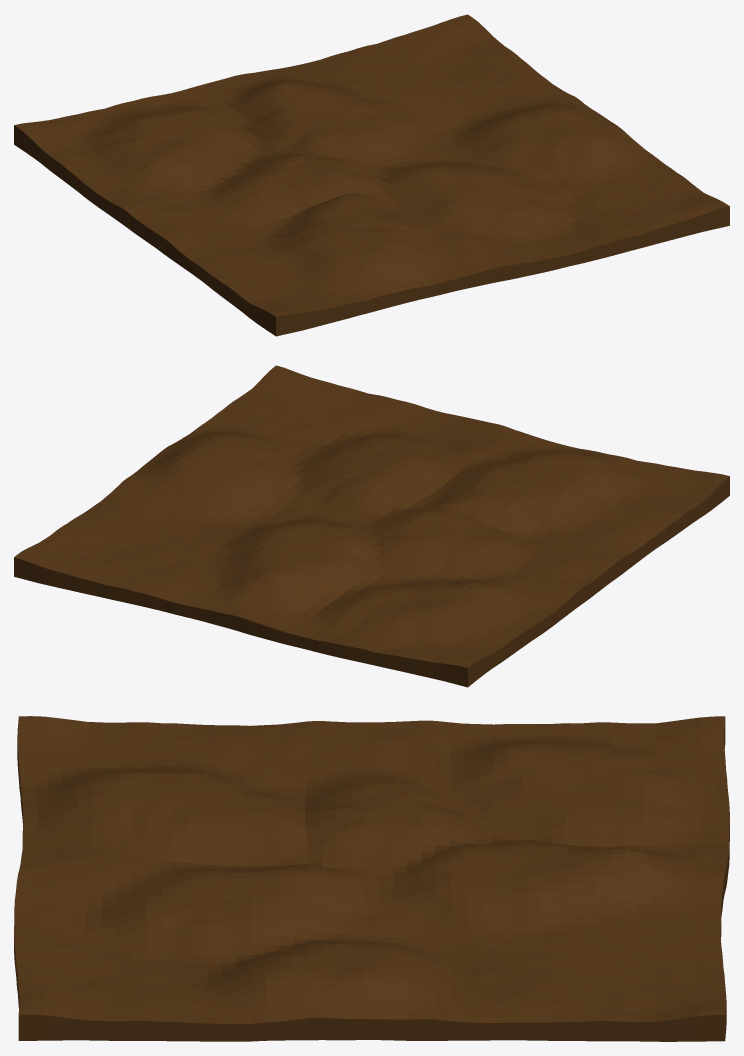
3 views of the same model, one above another, from view 1: azimuth 30°, elevation 25°; view 2: azimuth 150°, elevation 25°; view 3: azimuth 270°, elevation 25° (orthographic). The views are drawn at different scales.
Visible parts, largest first — view 1: J-6; view 2: J-6; view 3: J-6.
Part boxes in pixels (box(x1,y1,x2,y2)): J-6: box(14, 14, 729, 336); J-6: box(14, 365, 729, 687); J-6: box(14, 716, 729, 1041).
Size of the model in its own units: 7070 by 457 by 7129.
